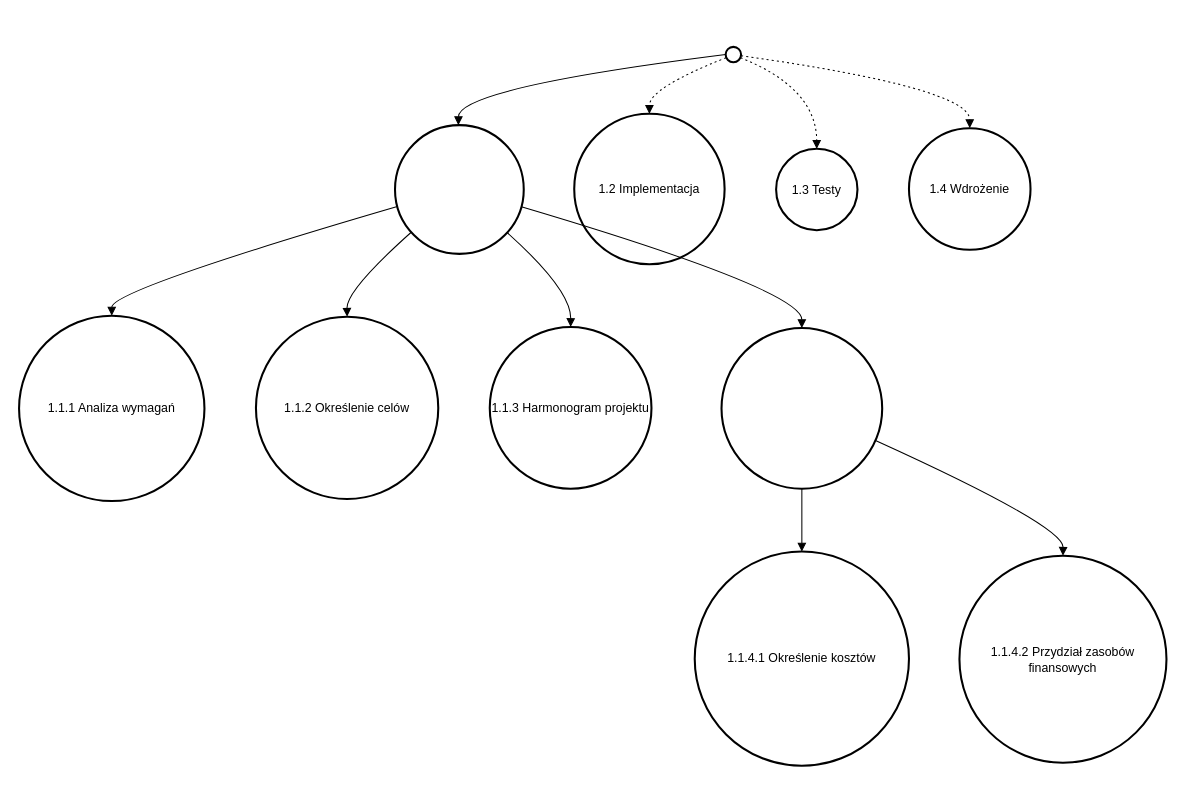
This 1185x785 diagram has some shape labels left out. Each missing label, with the centre of its shape:
"1. Projekt: Inteligentny System Automatyzacji Domu" goes at point 733,54.
"1.1 Planowanie" goes at point 458,189.
"1.1.4 Budżetowanie" goes at point 801,408.
